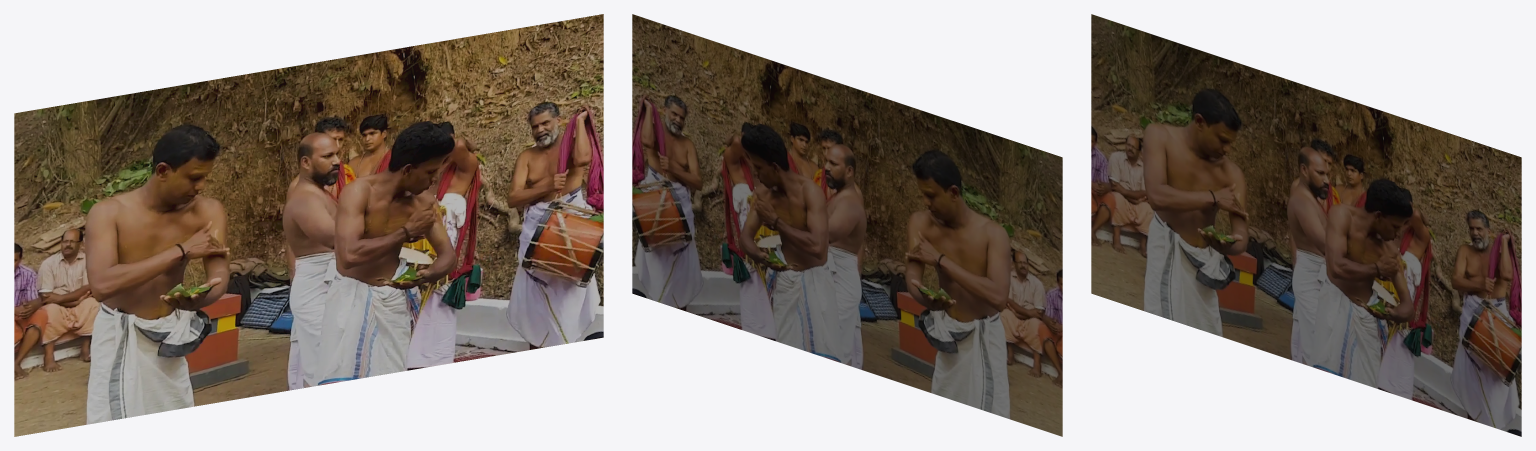
3 views of the same model, side by side, from view 1: azimuth 30°, elevation 25°; view 2: azimuth 150°, elevation 25°; view 3: azimuth 330°, elevation 25° (orthographic). The views are drawn at different scales.
Parts seen in each view (by area): view 1: 3; view 2: 3; view 3: 3.
Part boxes in pixels (x1=…): 3: x1=14, y1=14, x2=603, y2=436; 3: x1=632, y1=14, x2=1062, y2=436; 3: x1=1091, y1=14, x2=1521, y2=436.
Size of the model in its own units: 3.16 by 1.8 by 0.4587.
Materials: 1 (1 with a texture image).
